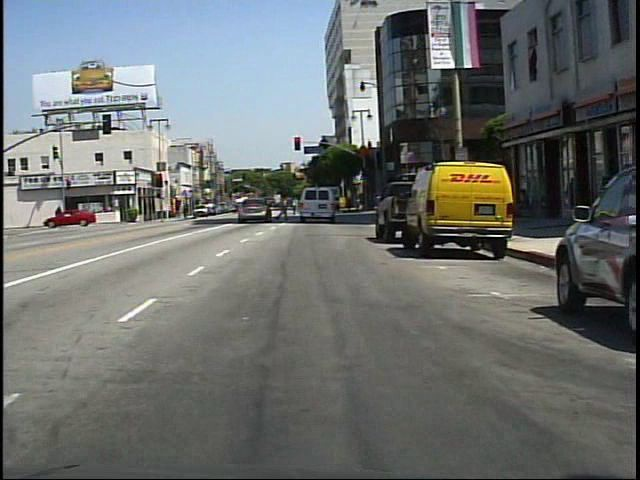person: (512, 182, 536, 223), (274, 192, 292, 224), (289, 196, 299, 218), (53, 205, 65, 218)
